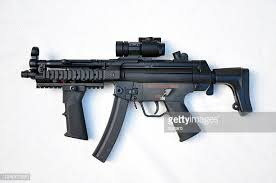gun: (19, 34, 255, 162)
